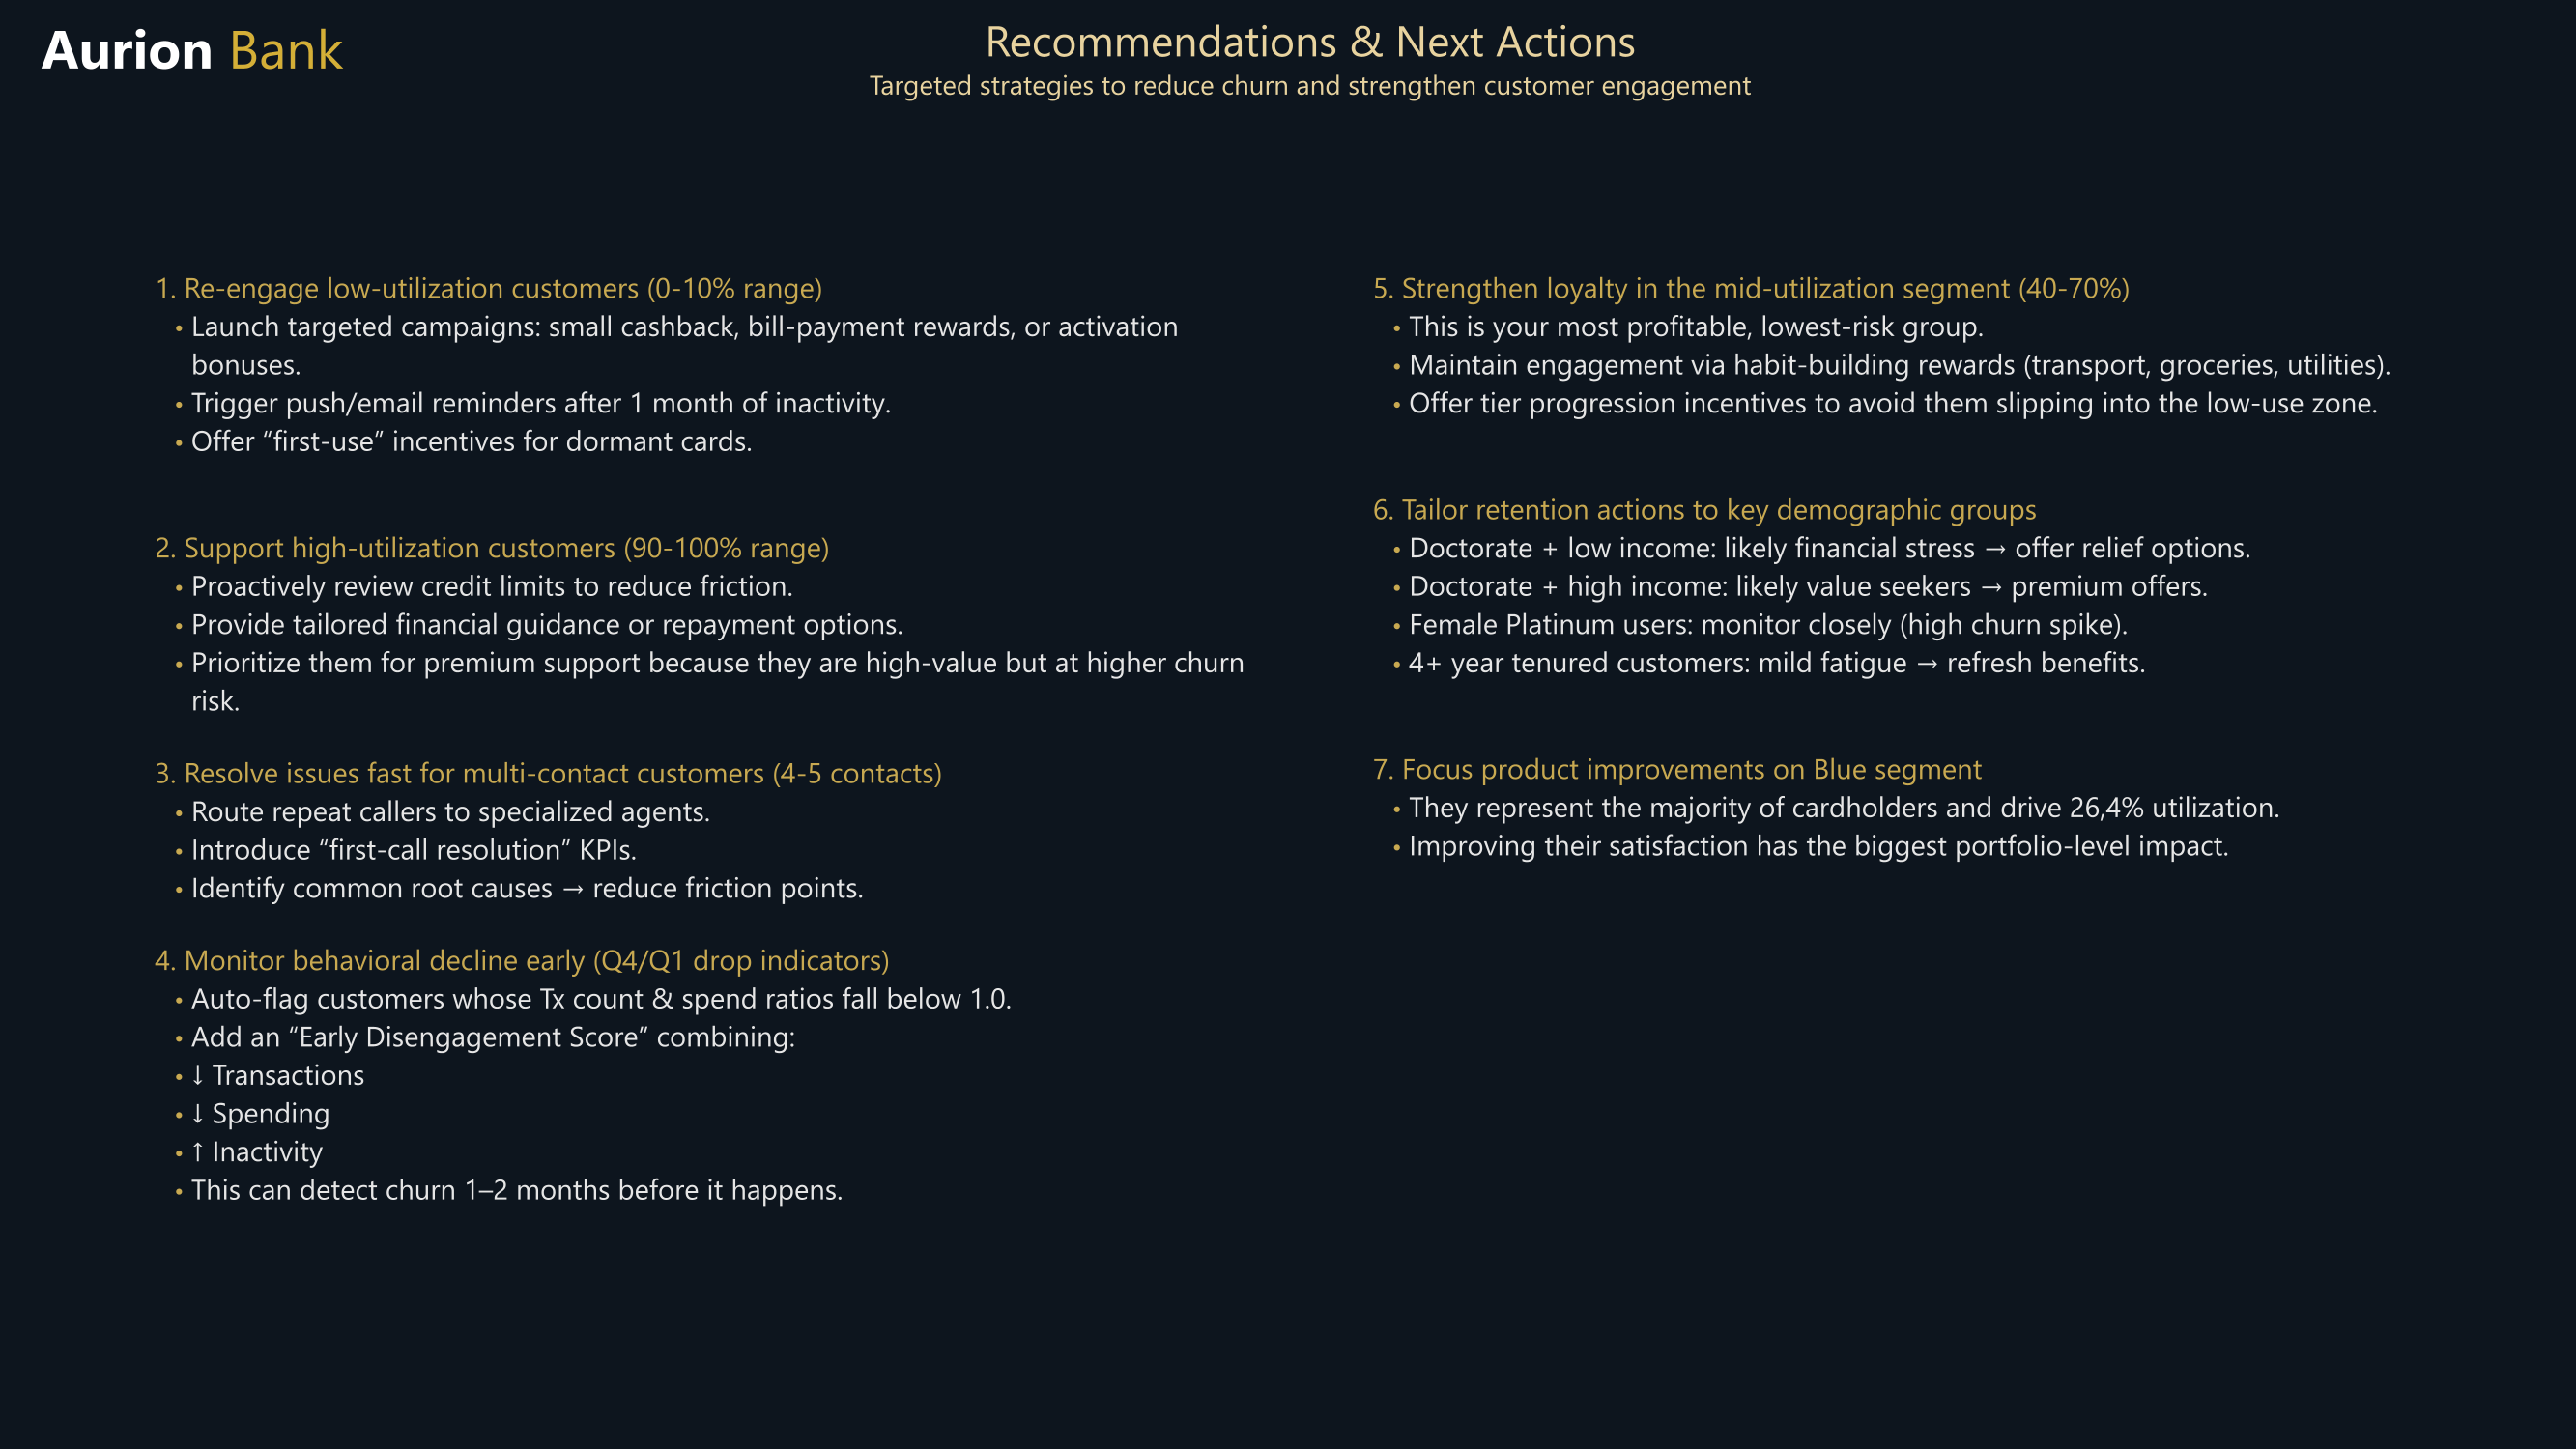

What the dashboard file says about the page in this screenshot:
{"tool":"powerbi","page":{"name":"Recommendations & Next Actions","canvas":[1280,720],"ordinal":6},"visuals":[{"type":"textbox","title":"KZ Logo","box":[0,0,191,52],"z":2000},{"type":"textbox","box":[72.3,77,571.5,613.8],"z":3000},{"type":"textbox","box":[408.2,0,485.8,64],"z":5000},{"type":"textbox","box":[677,77,571.5,613.8],"z":6000}]}

Visuals, with their boxes in screenshot pixels (x1, y1, x2, y2), scaled from the page's 1280x720 canvas onto the 2576x1449 screenshot:
"KZ Logo" textbox: x1=0, y1=0, x2=385, y2=104
textbox: x1=146, y1=155, x2=1296, y2=1390
textbox: x1=821, y1=0, x2=1799, y2=128
textbox: x1=1362, y1=155, x2=2512, y2=1390
